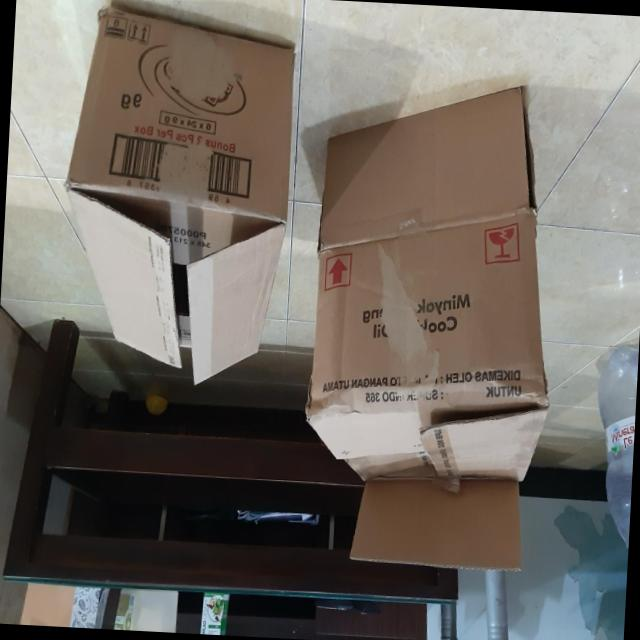Kardus: (297, 75, 566, 576), (54, 4, 298, 392)
